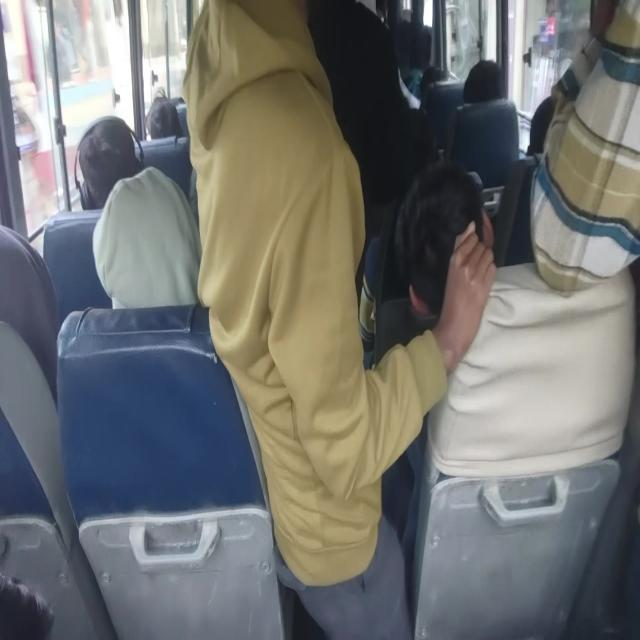person: (204, 11, 398, 496), (553, 33, 640, 397), (101, 173, 192, 307), (319, 0, 403, 142), (0, 528, 78, 640), (0, 224, 37, 431), (392, 186, 468, 282), (81, 107, 146, 201), (146, 91, 182, 161), (533, 101, 569, 150), (462, 49, 496, 95), (422, 68, 444, 94)
